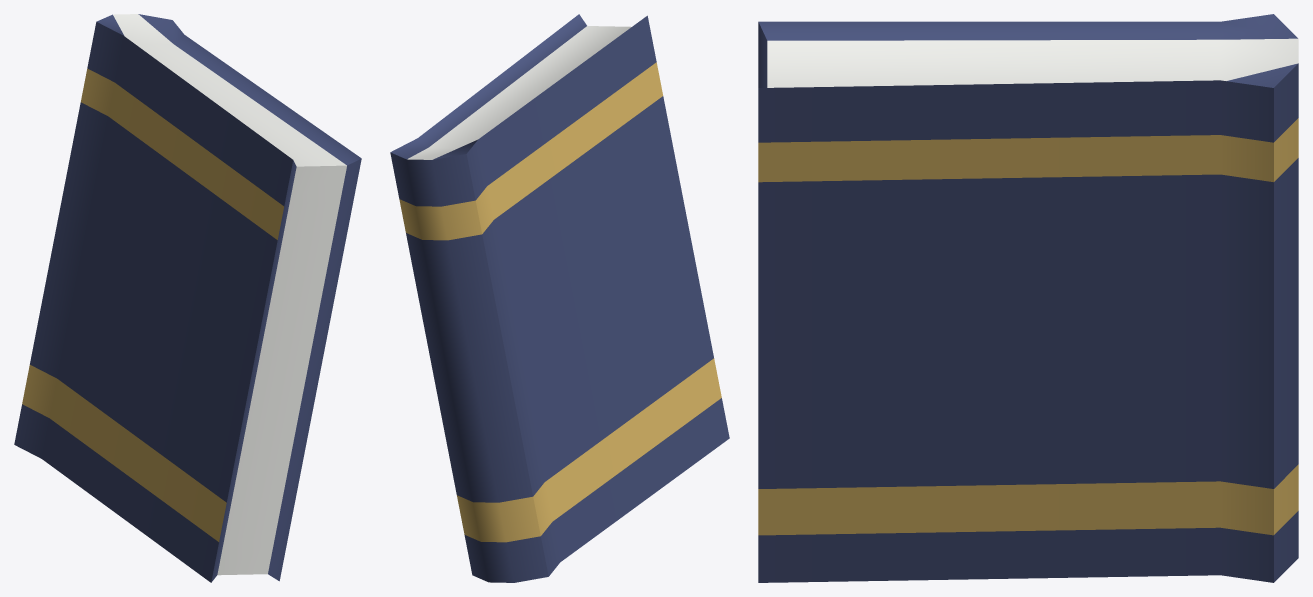
Rendered from BlueBook_Mesh.fbx.
The picture shows the model from 3 angles, left to right: view 1: azimuth 30°, elevation 25°; view 2: azimuth 150°, elevation 25°; view 3: azimuth 270°, elevation 25°; orthographic projection. The views are drawn at different scales.
Parts seen in each view (by area): view 1: pCube11; view 2: pCube11; view 3: pCube11.
Part boxes in pixels (<box>): pCube11: <box>14,14,361,582</box>; pCube11: <box>390,14,729,582</box>; pCube11: <box>758,14,1298,582</box>.
Size of the model in its own units: 2.03 by 5.14 by 4.39.
